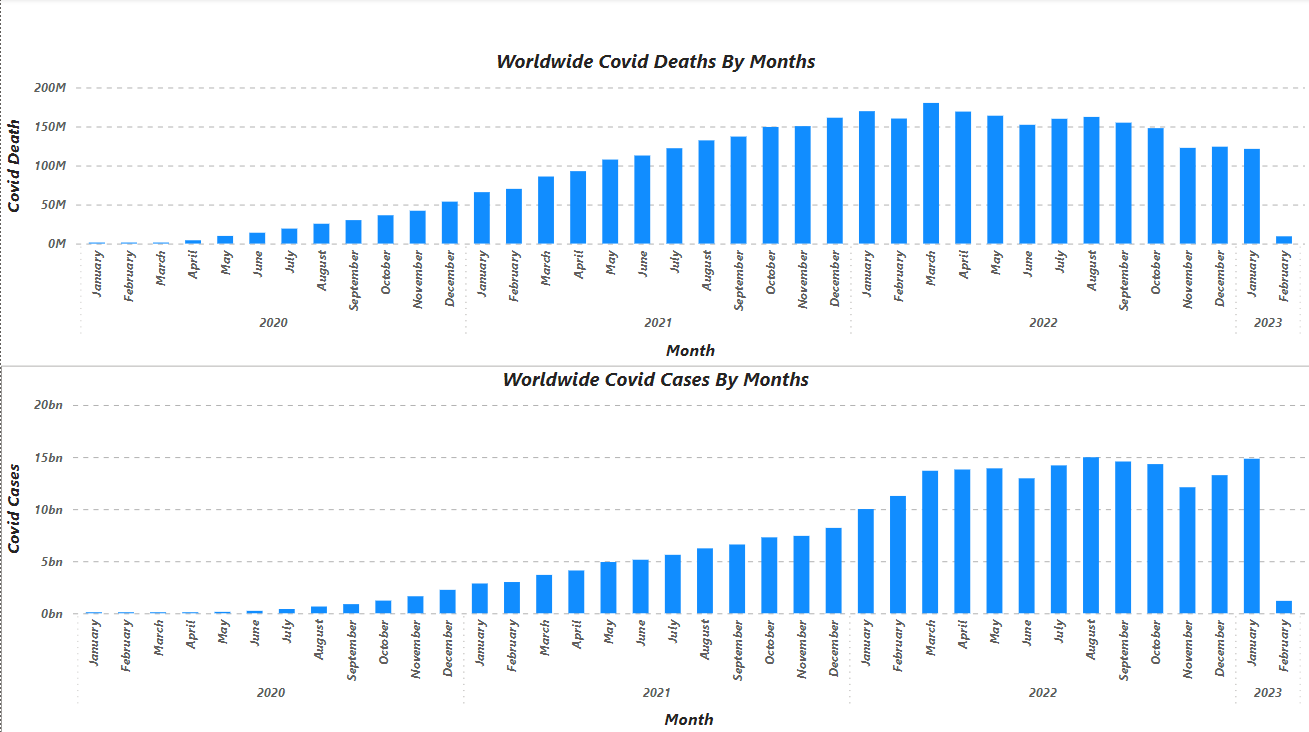

What the dashboard file says about the page in this screenshot:
{"tool":"powerbi","page":{"name":"Page 3","canvas":[1280,720],"ordinal":2},"visuals":[{"type":"clusteredColumnChart","title":"Worldwide Covid Cases By Months","fields":{"Category":["WHO-COVID-19-global-data.Date_reported.Variation.Date Hierarchy.Year","WHO-COVID-19-global-data.Date_reported.Variation.Date Hierarchy.Month"],"Y":["Sum(WHO-COVID-19-global-data.Cumulative_cases)"]},"box":[0,359.5,1280.3,360.9],"z":0},{"type":"clusteredColumnChart","title":"Worldwide Covid Deaths By Months","fields":{"Category":["WHO-COVID-19-global-data.Date_reported.Variation.Date Hierarchy.Year","WHO-COVID-19-global-data.Date_reported.Variation.Date Hierarchy.Month"],"Y":["Sum(WHO-COVID-19-global-data.Cumulative_deaths)"]},"box":[0,49.4,1280.3,310.1],"z":1}]}

Visuals, with their boxes in screenshot pixels (x1, y1, x2, y2), scaled from the page's 1280x720 canvas onto the 1309x732 screenshot:
"Worldwide Covid Cases By Months" clusteredColumnChart: x1=0, y1=365, x2=1308, y2=731
"Worldwide Covid Deaths By Months" clusteredColumnChart: x1=0, y1=50, x2=1308, y2=365
